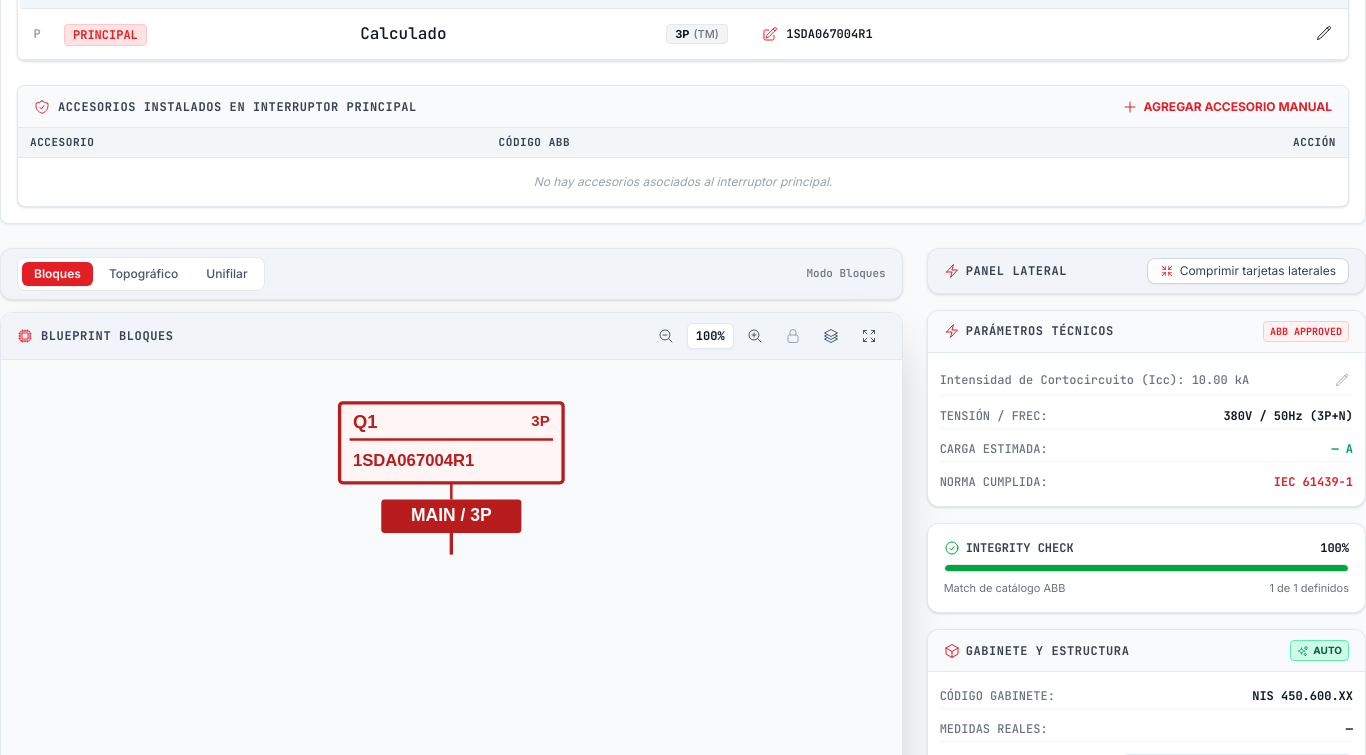
it: DetalleTablero › shows the backend's actual error message when saving the Icc fails
(page scrolled)
Click the button named "editar intensidad de cortocircuito" at (1342, 380), box [1331,368,1353,390]
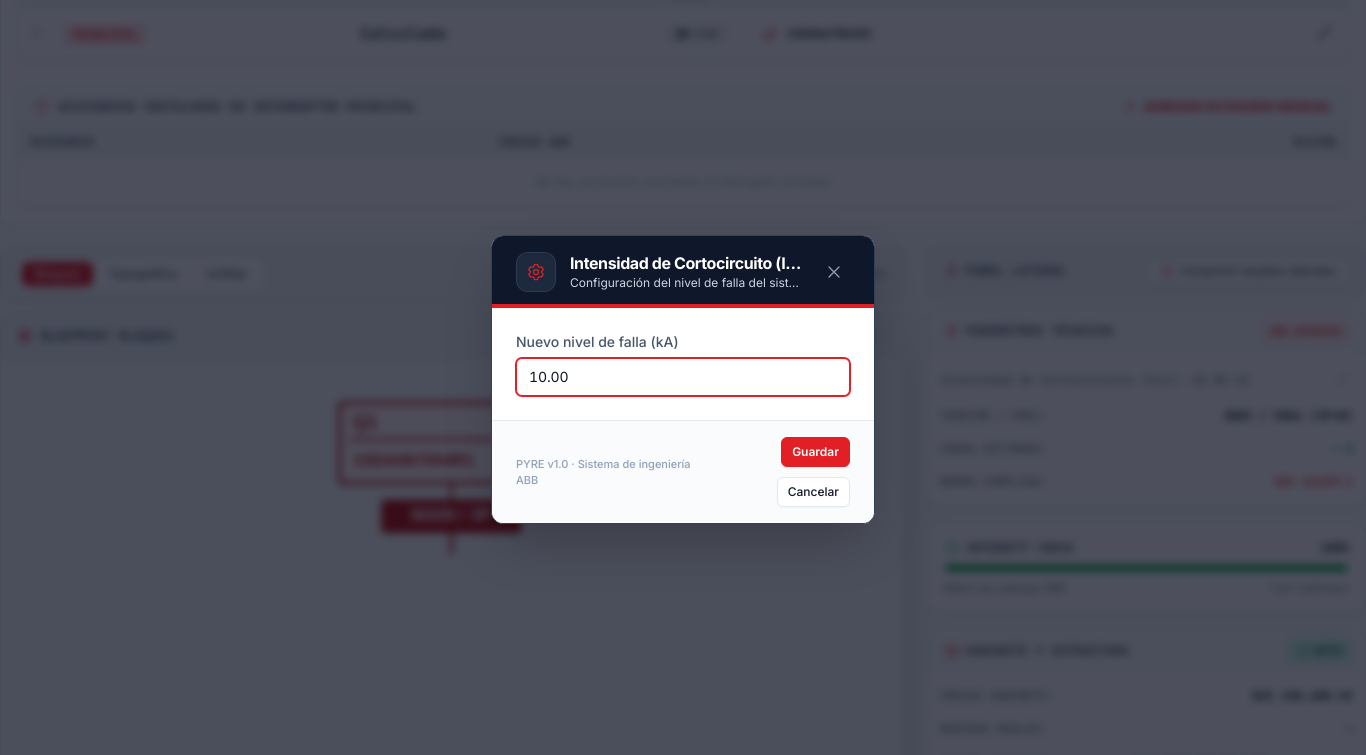
Click the button "Guardar" at (816, 452), box [781,436,850,466]
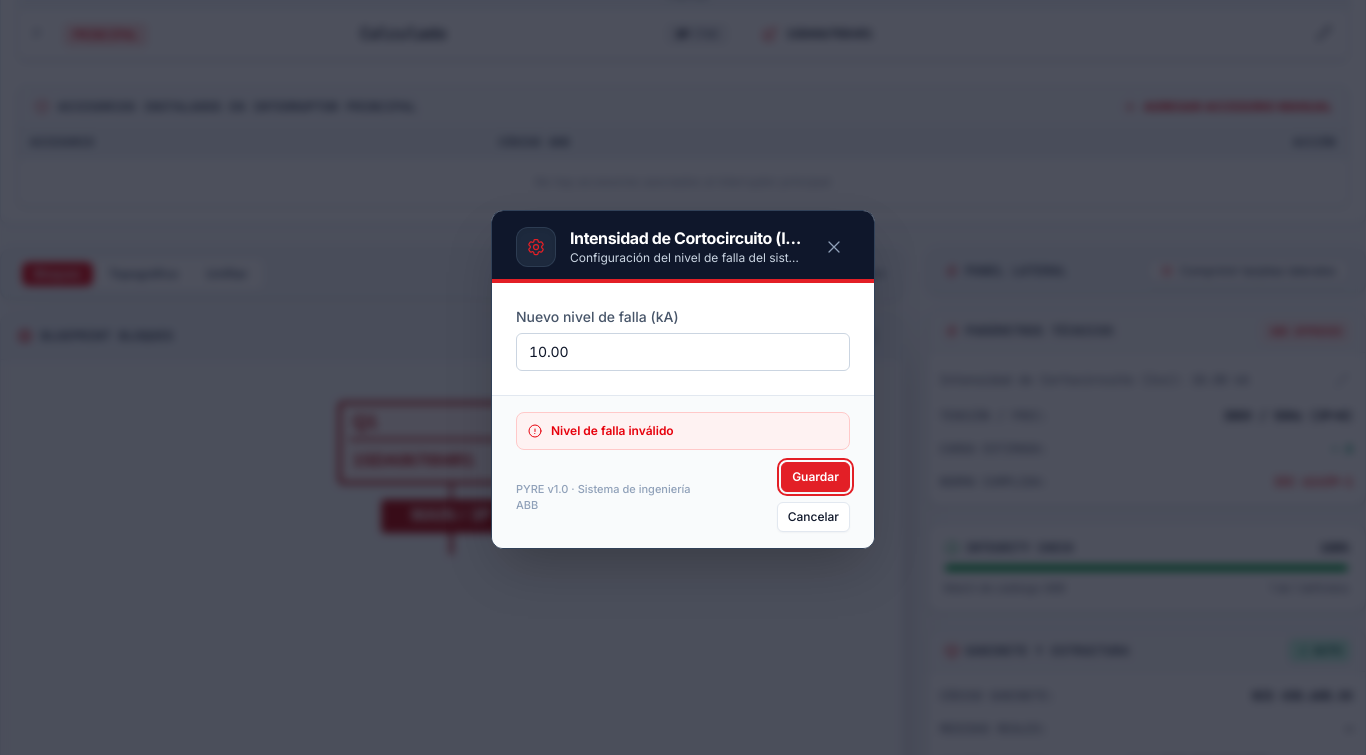
expect the text "Nivel de falla inválido" is shown: met, box [551,422,674,438]
